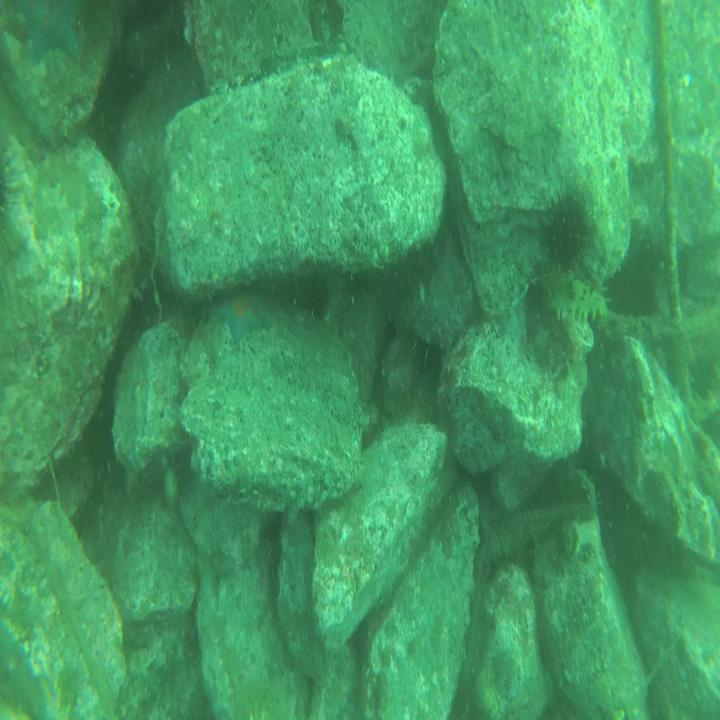echinus: (546, 184, 595, 270), (612, 253, 660, 322), (219, 687, 284, 720), (0, 138, 21, 218)
holothurian: (544, 277, 609, 327)
starfish: (211, 302, 268, 345)
